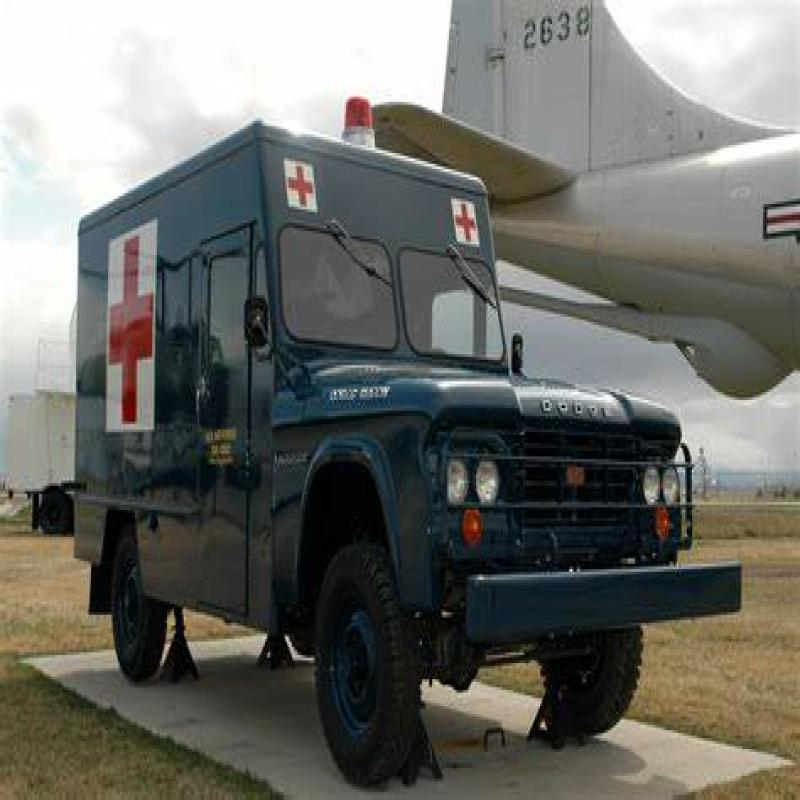AmbulanceSiren: (328, 73, 380, 154)
